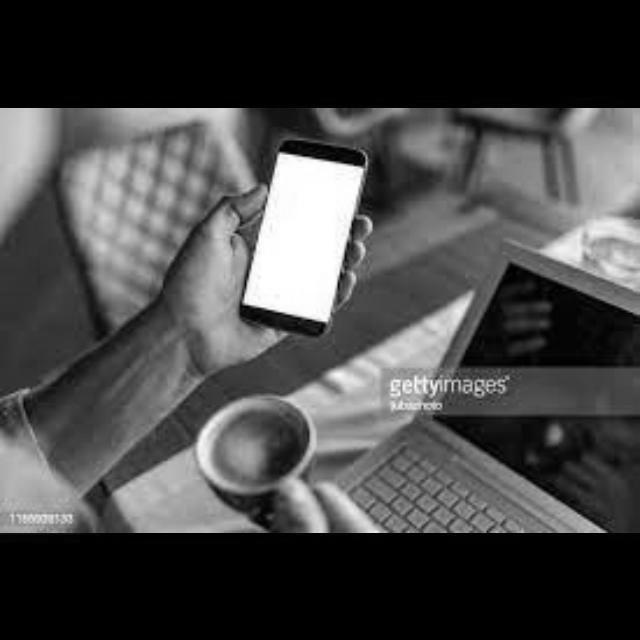fake: (254, 140, 364, 334)
